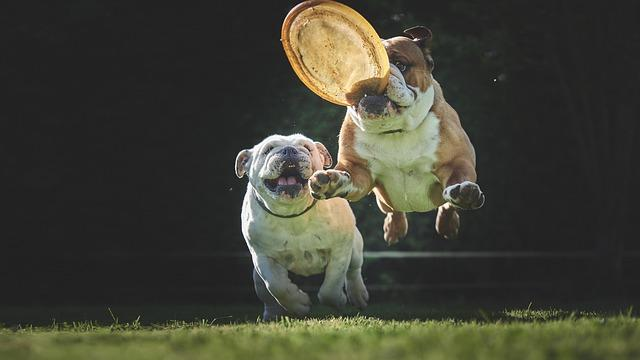Non_Gorille: (35, 0, 545, 359)
